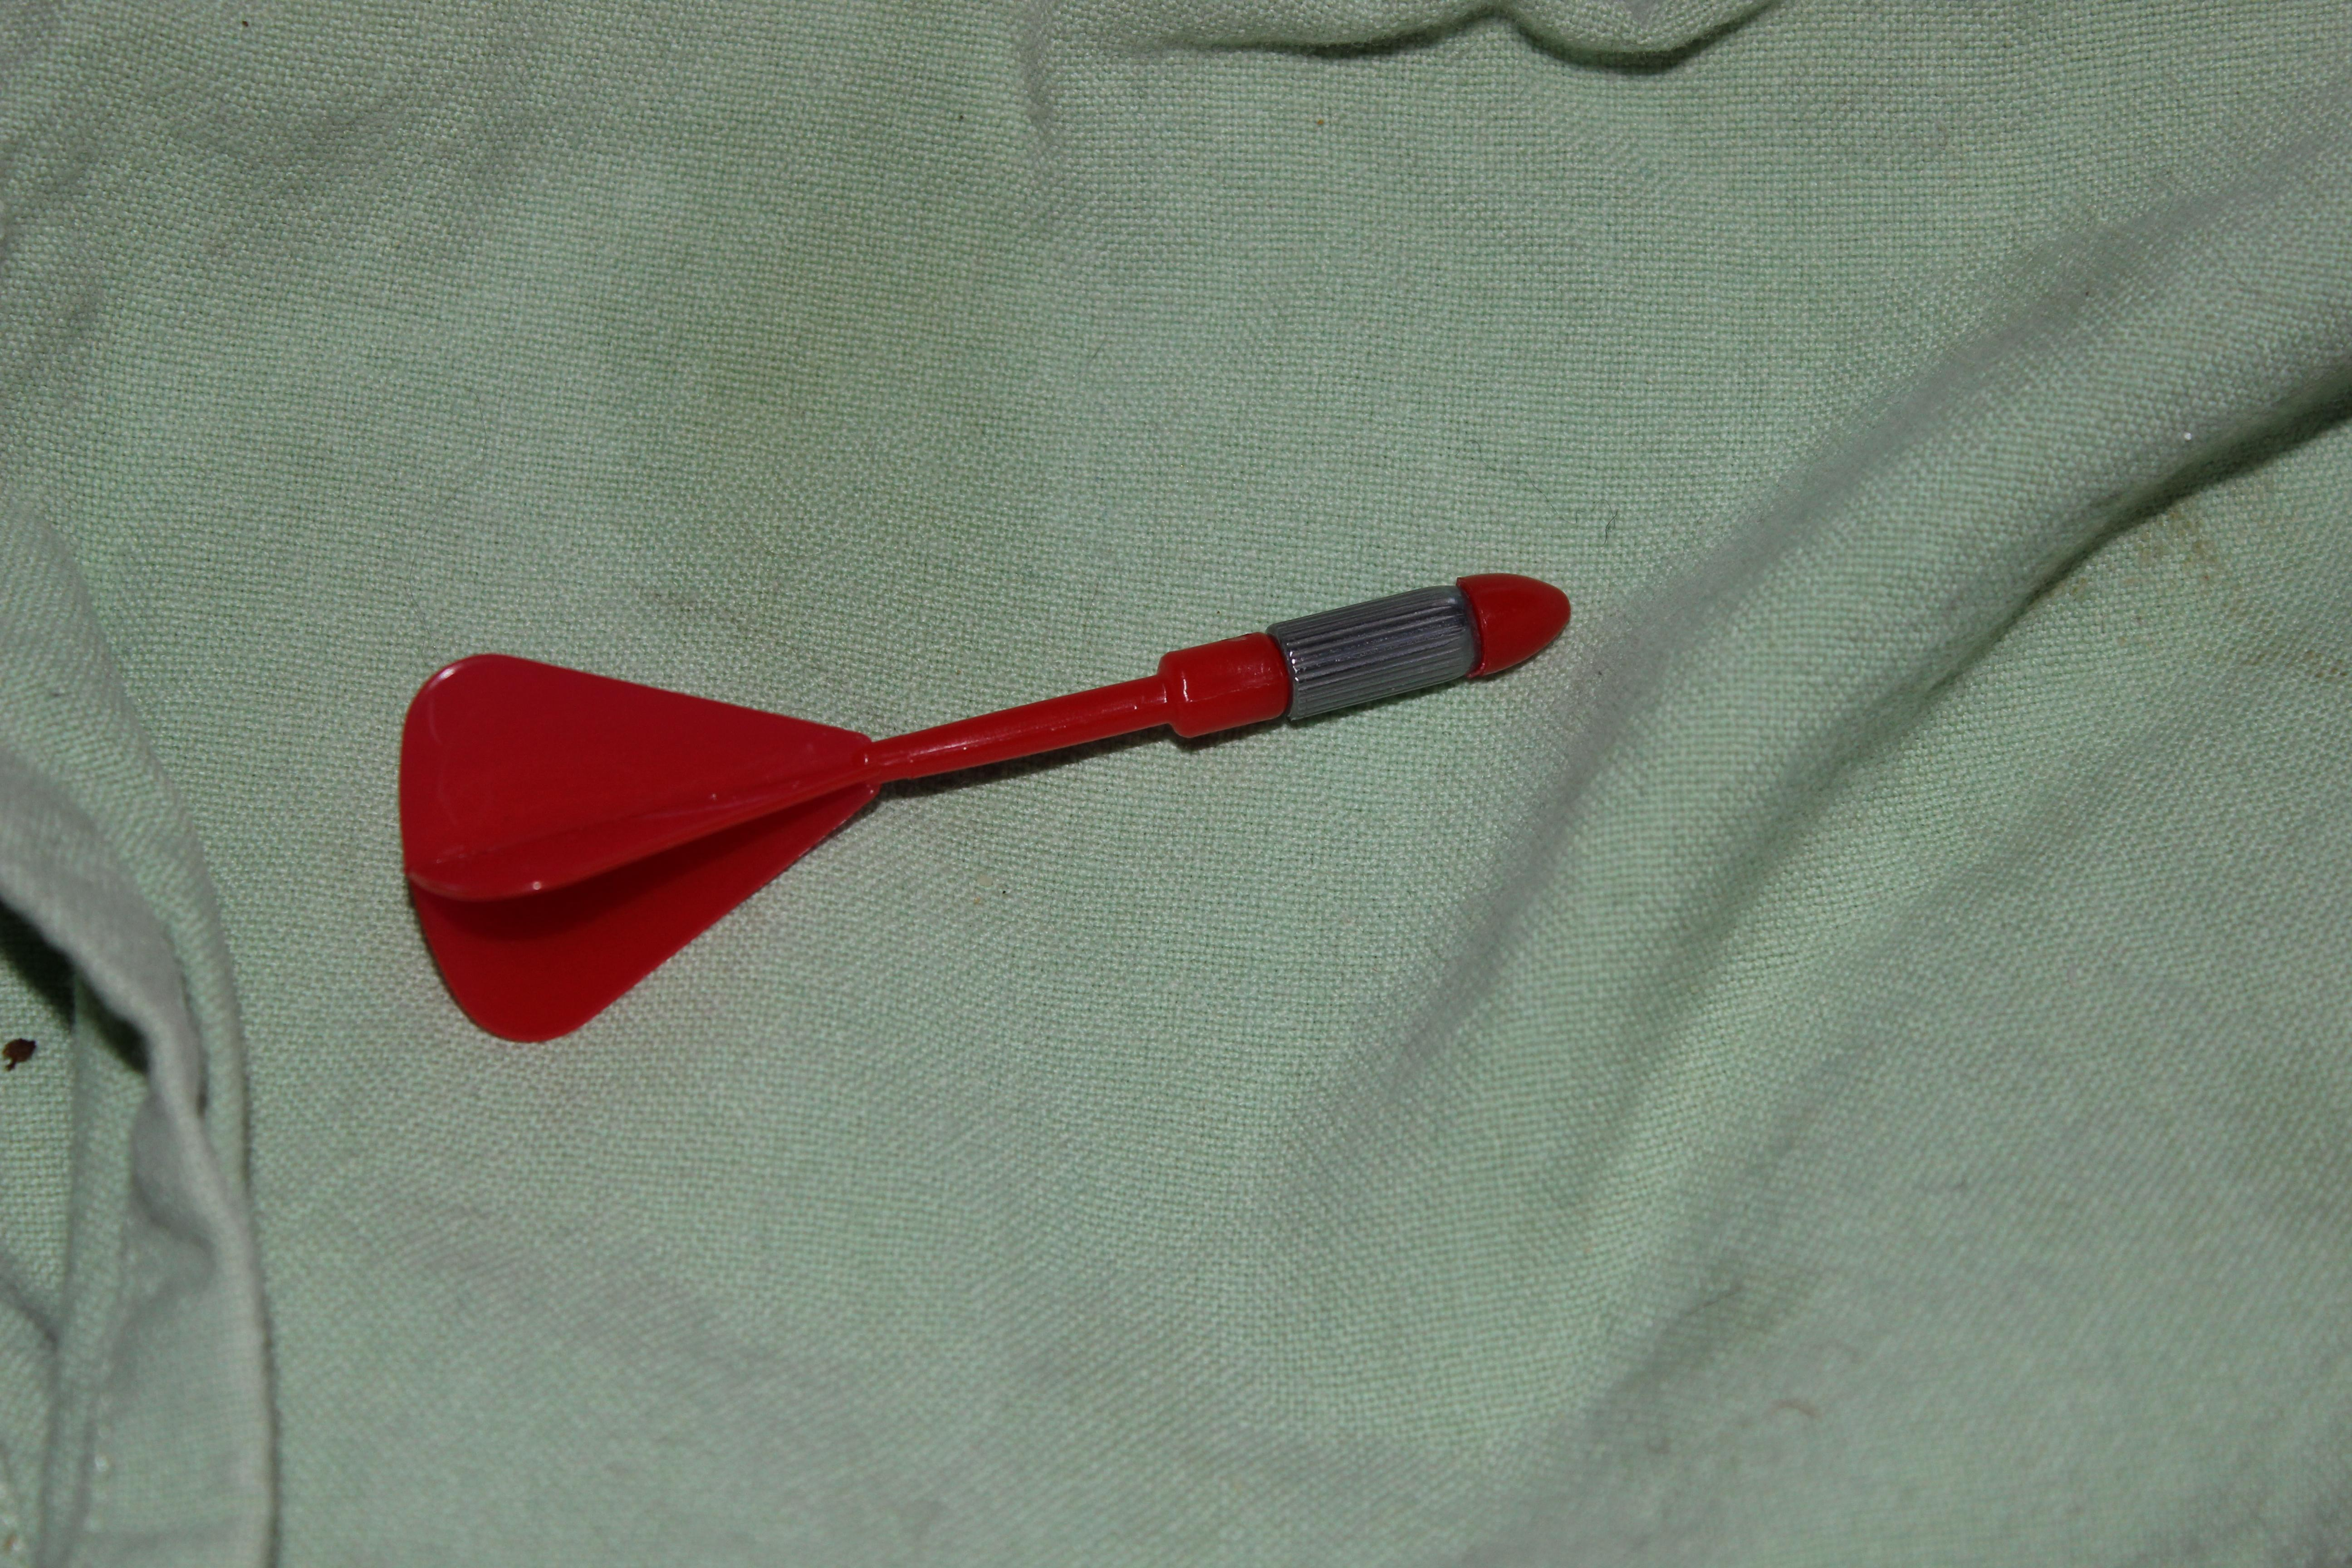redDart: (359, 516, 1622, 1089)
